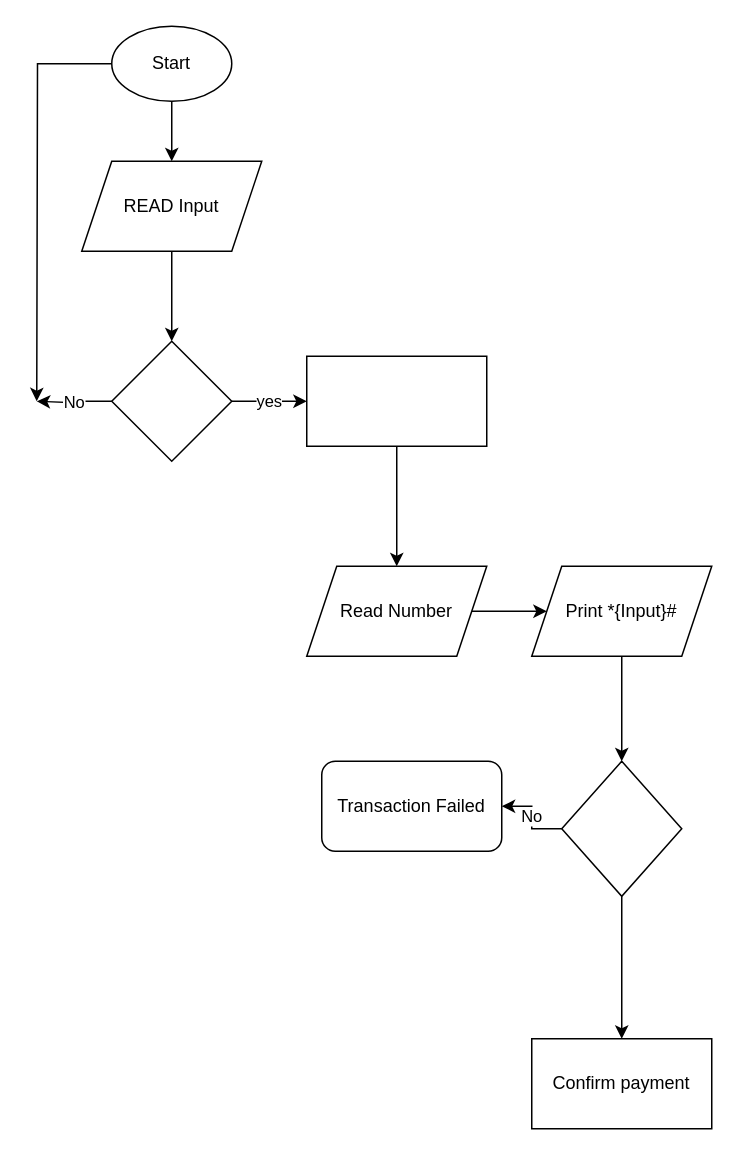
Image size: 738x1155. Some labels were removed from this diagram. Each missing label, with the centre of its shape:
Is a==input: (621,828)
Is Input>1500: (171,400)
Output=Input*rate: (396,400)
